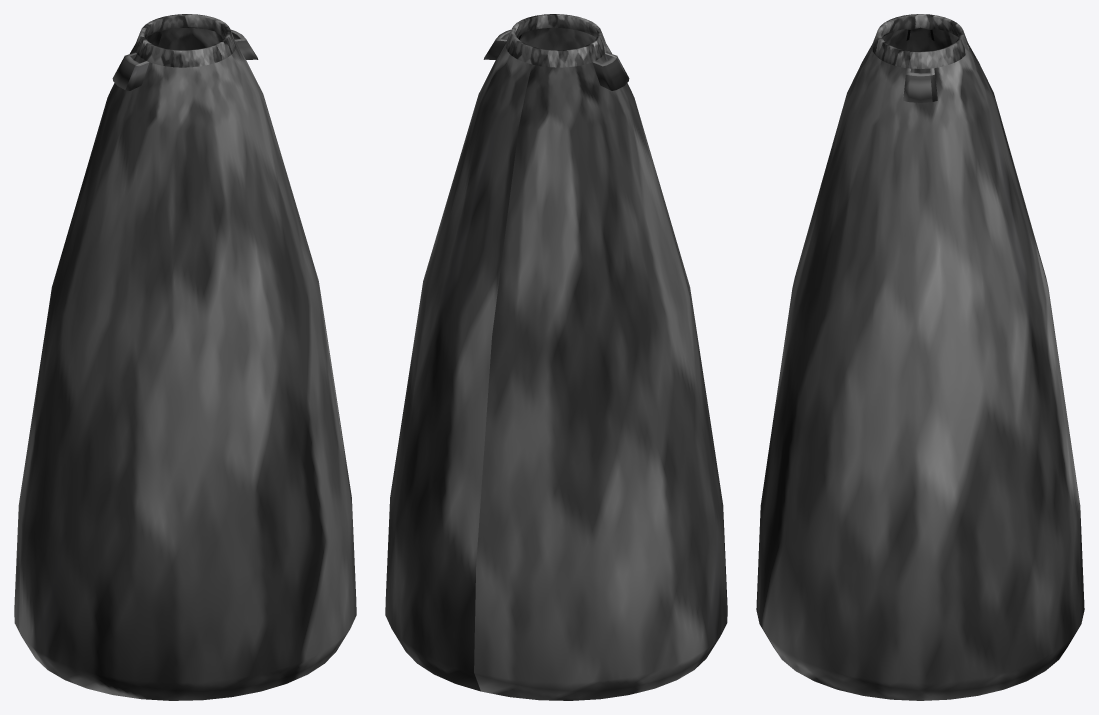
File: pawn.glb
3 views of the same model, side by side, from view 1: azimuth 30°, elevation 25°; view 2: azimuth 150°, elevation 25°; view 3: azimuth 270°, elevation 25° (orthographic).
Visible parts, largest first — view 1: Cylinder.001; view 2: Cylinder.001; view 3: Cylinder.001.
Boxes of the visible parts, <box> form: Cylinder.001: <box>14,14,356,700</box>; Cylinder.001: <box>385,14,727,700</box>; Cylinder.001: <box>756,14,1084,700</box>.
Bounding box in the file's own units: 0.4971 × 0.9508 × 0.4708.
1 material, 1 textured.
